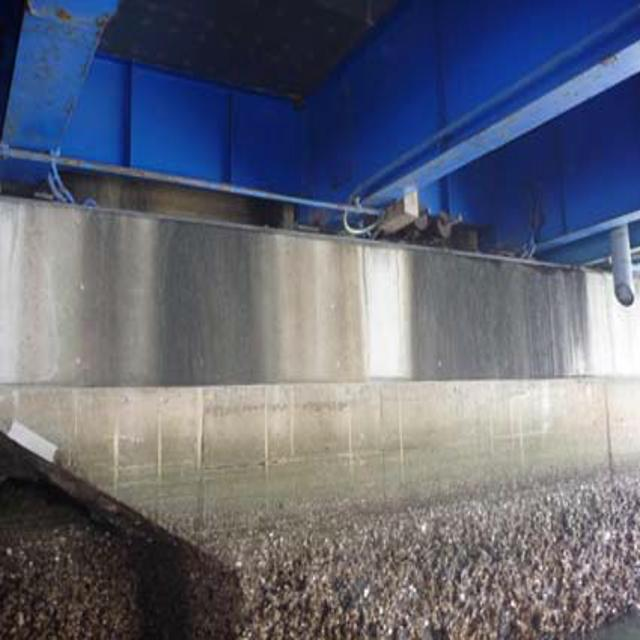leakage: (64, 226, 600, 371)
